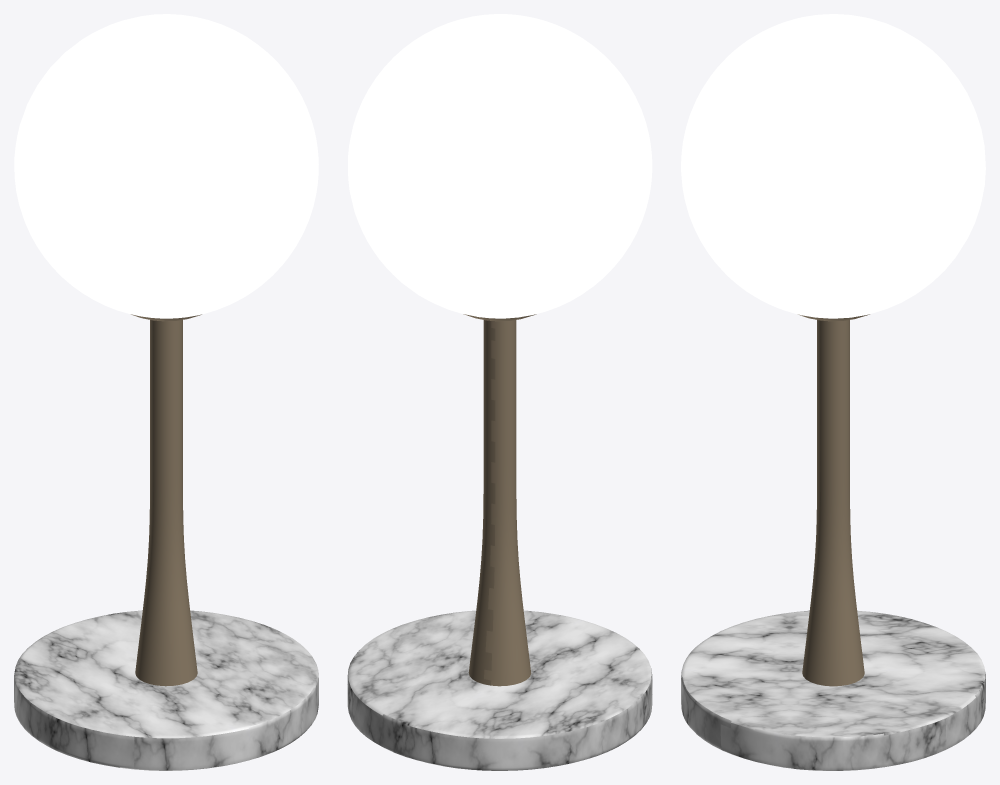
The model's file is ricarda-table.glb.
The picture shows the model from 3 angles, left to right: view 1: azimuth 30°, elevation 25°; view 2: azimuth 150°, elevation 25°; view 3: azimuth 270°, elevation 25°; orthographic projection.
Visible parts, largest first — view 1: subscattering, Obj_000003_Retopo, Obj_000001_Retopo; view 2: subscattering, Obj_000003_Retopo, Obj_000001_Retopo; view 3: subscattering, Obj_000003_Retopo, Obj_000001_Retopo.
Part boxes in pixels (<box>): subscattering: <box>14,14,318,318</box>; Obj_000003_Retopo: <box>14,610,318,770</box>; Obj_000001_Retopo: <box>131,314,201,686</box>; subscattering: <box>348,14,652,318</box>; Obj_000003_Retopo: <box>347,610,652,770</box>; Obj_000001_Retopo: <box>463,314,536,686</box>; subscattering: <box>681,14,985,318</box>; Obj_000003_Retopo: <box>681,610,985,770</box>; Obj_000001_Retopo: <box>798,314,869,686</box>.
Bounding box in the file's own units: 0.1639 × 0.4032 × 0.164.
3 materials, 1 textured.
